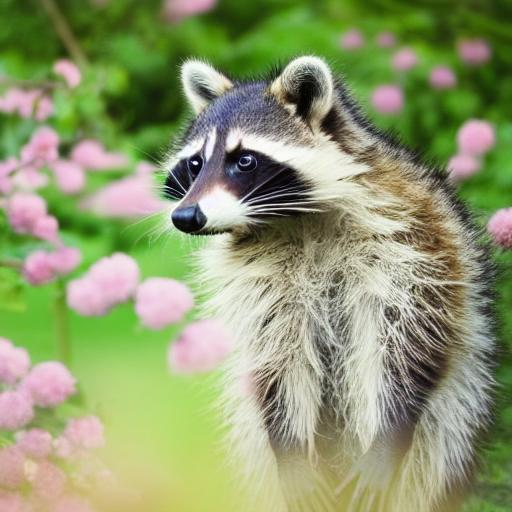raccoon: (142, 49, 512, 512)
